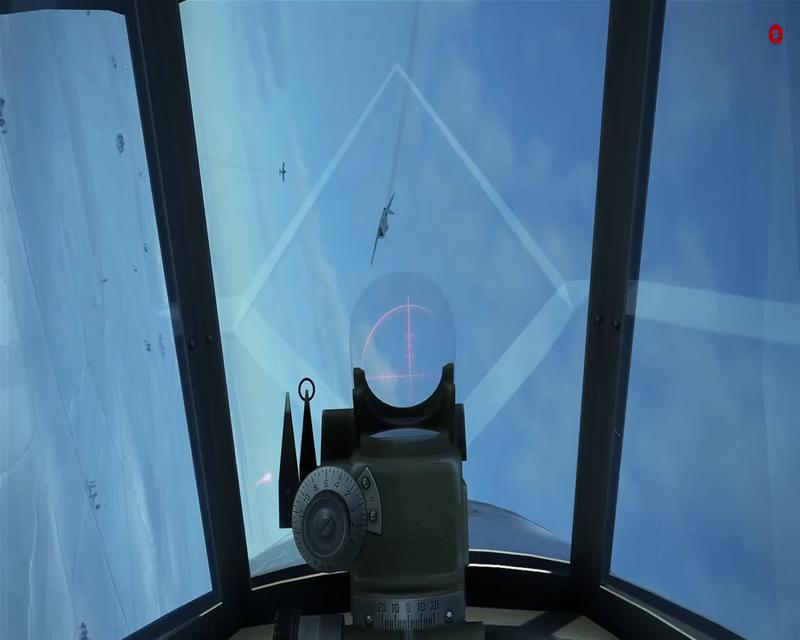UAV: (370, 192, 396, 266), (278, 161, 287, 182)
